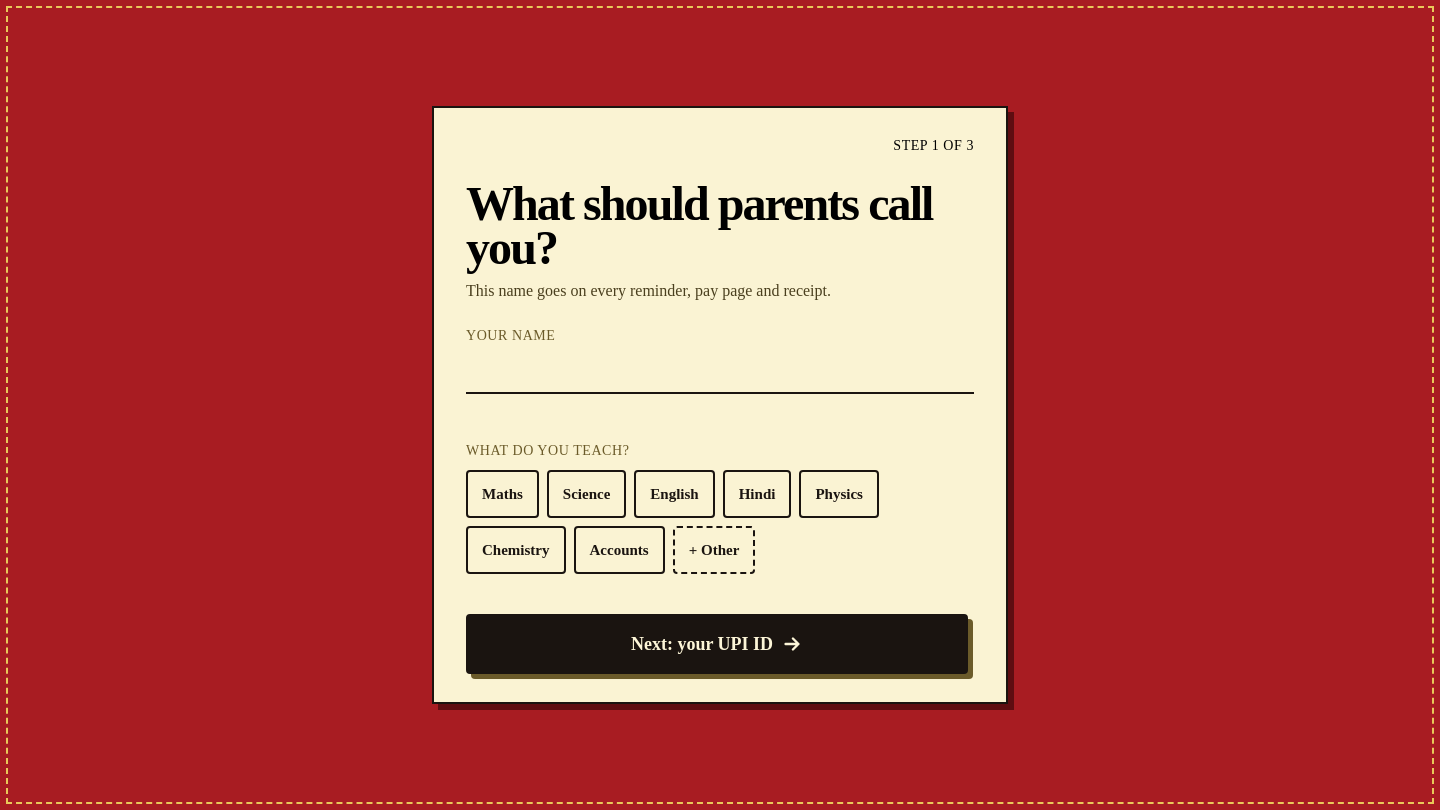
Scenario: the name (criterion 22) › says Missing and what to type when Next is tapped with nothing
Click the button "Next: your UPI ID": (717, 644) [466,614,968,674]
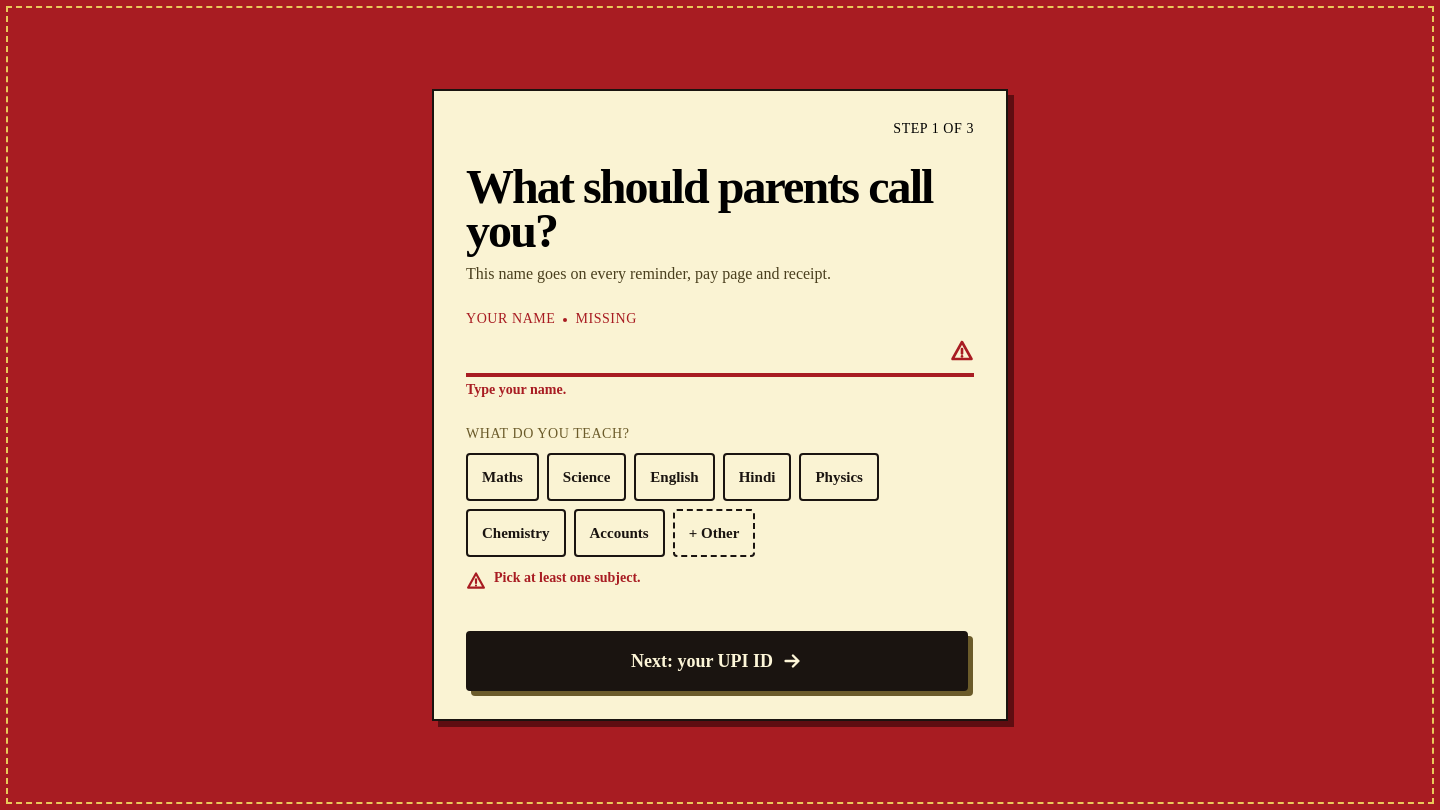
Now the text "Type your name." is shown, box [466,382,566,397]
Now the text "Missing" is shown, box [575,311,637,326]
